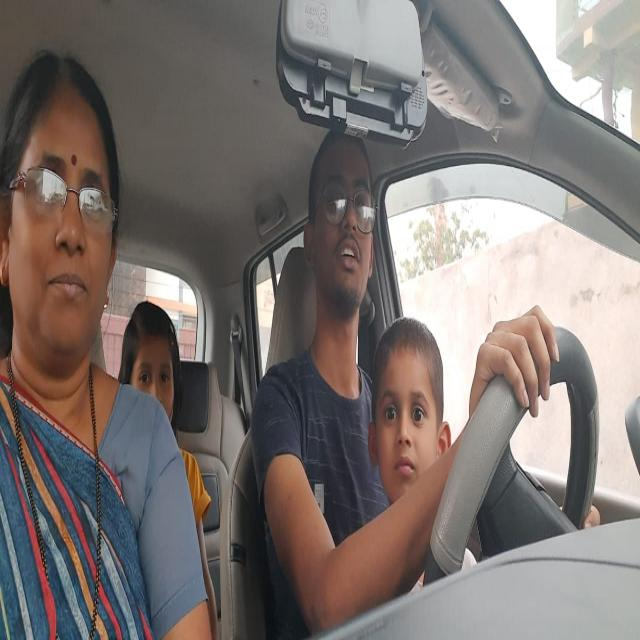child: (367, 313, 452, 515)
person: (0, 45, 119, 397), (302, 122, 378, 336), (122, 288, 184, 457)
